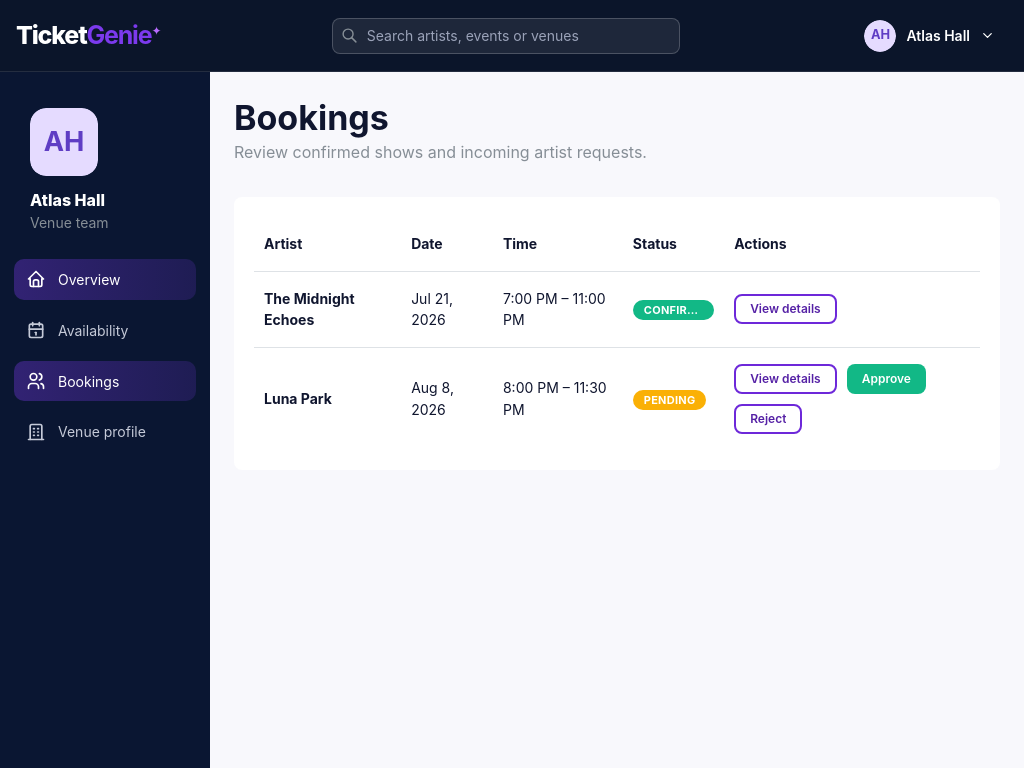
Test: application route smoke coverage › opens booking details and approves a pending Artist request
Expected: the text "Luna Park" is shown, [254,348,401,450]
Click the button "View details" in the row of "Luna Park" at (785,379), box [734,364,837,394]
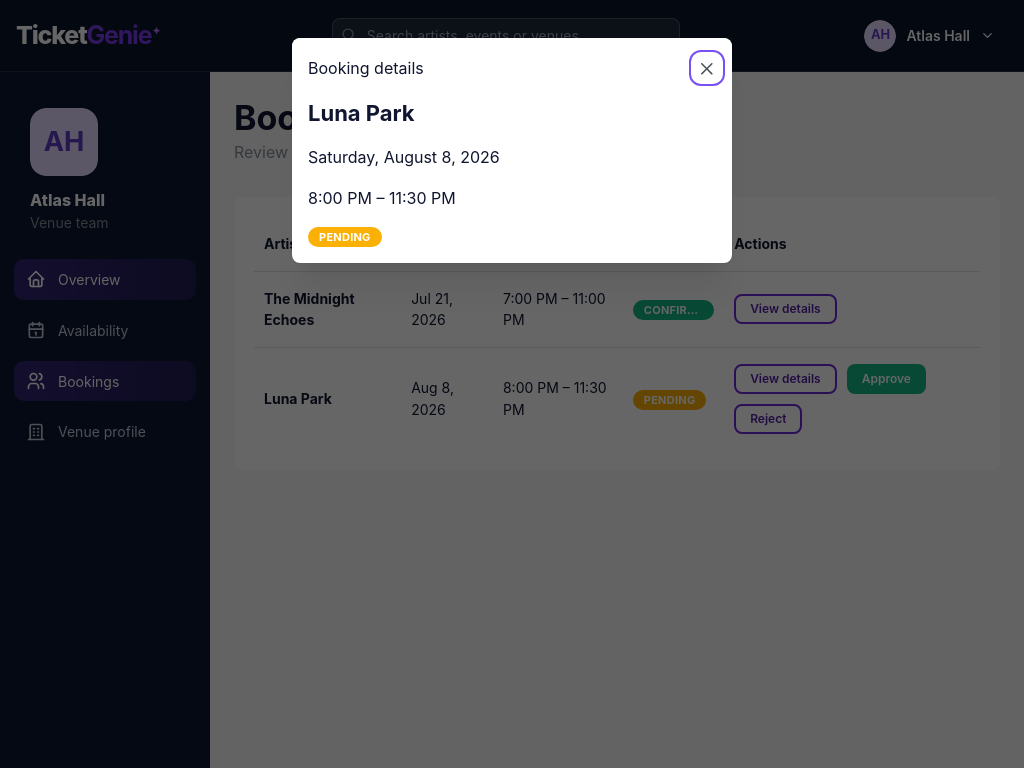
Now the dialog shows "Luna Park", box [308,100,415,126]
Click the button at (707,68), box [693,54,721,82]
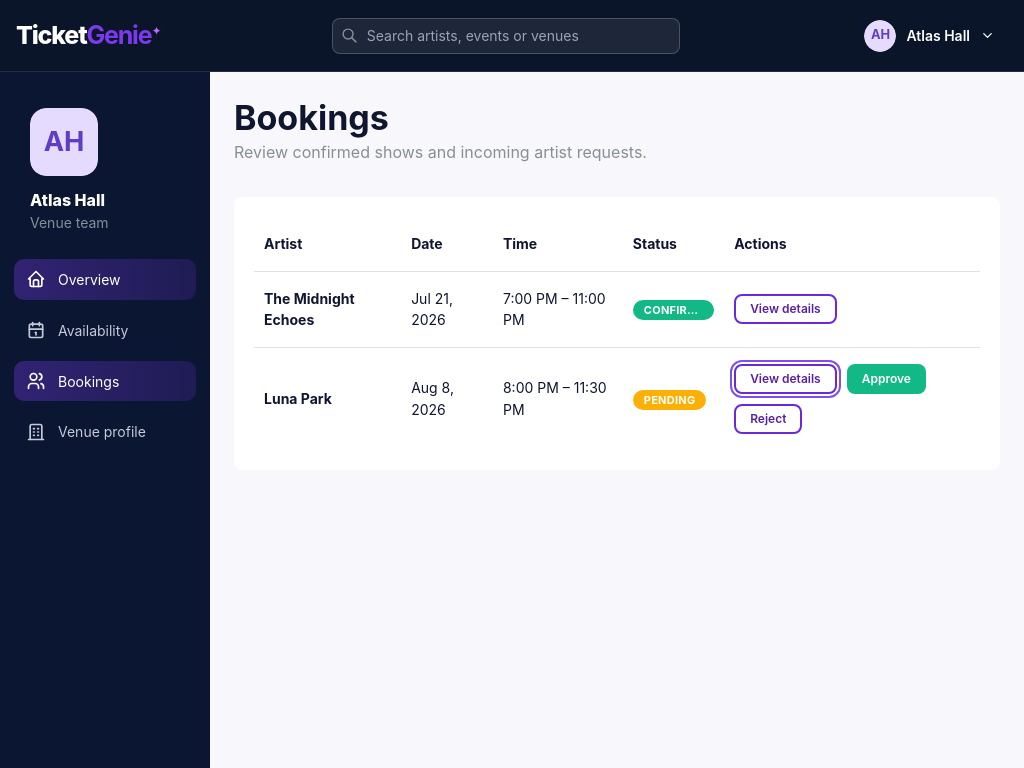
Click the button "Approve" at (886,379), box [847,364,926,394]
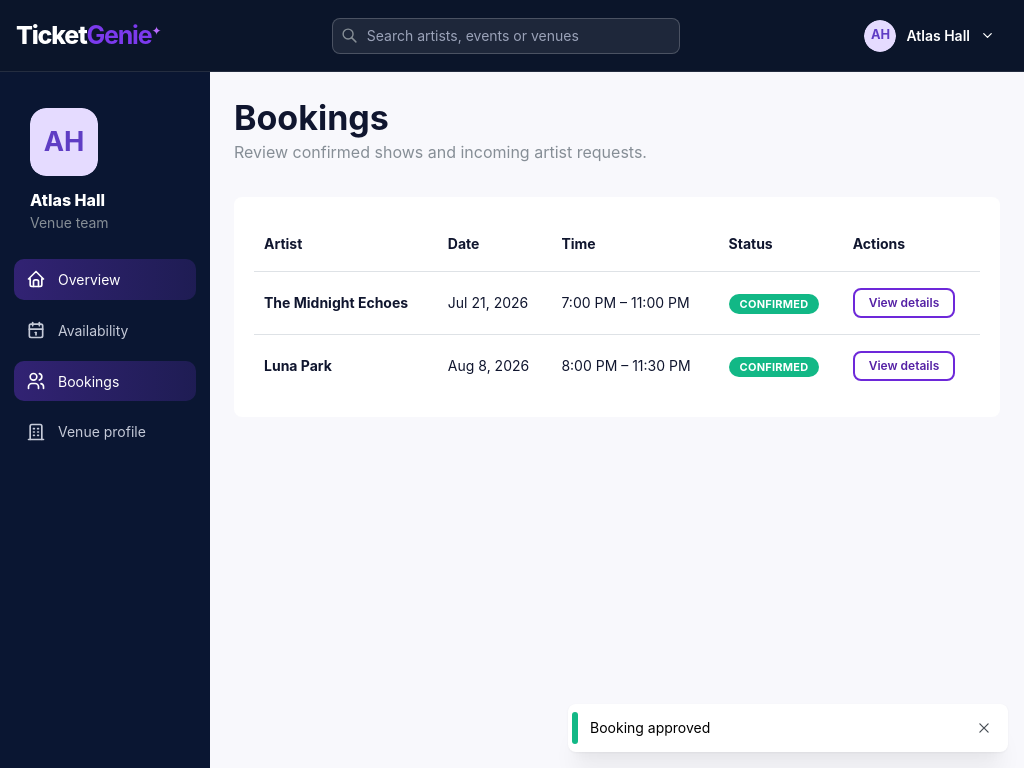
Now the text "Booking approved" is shown, box [590,719,710,736]
